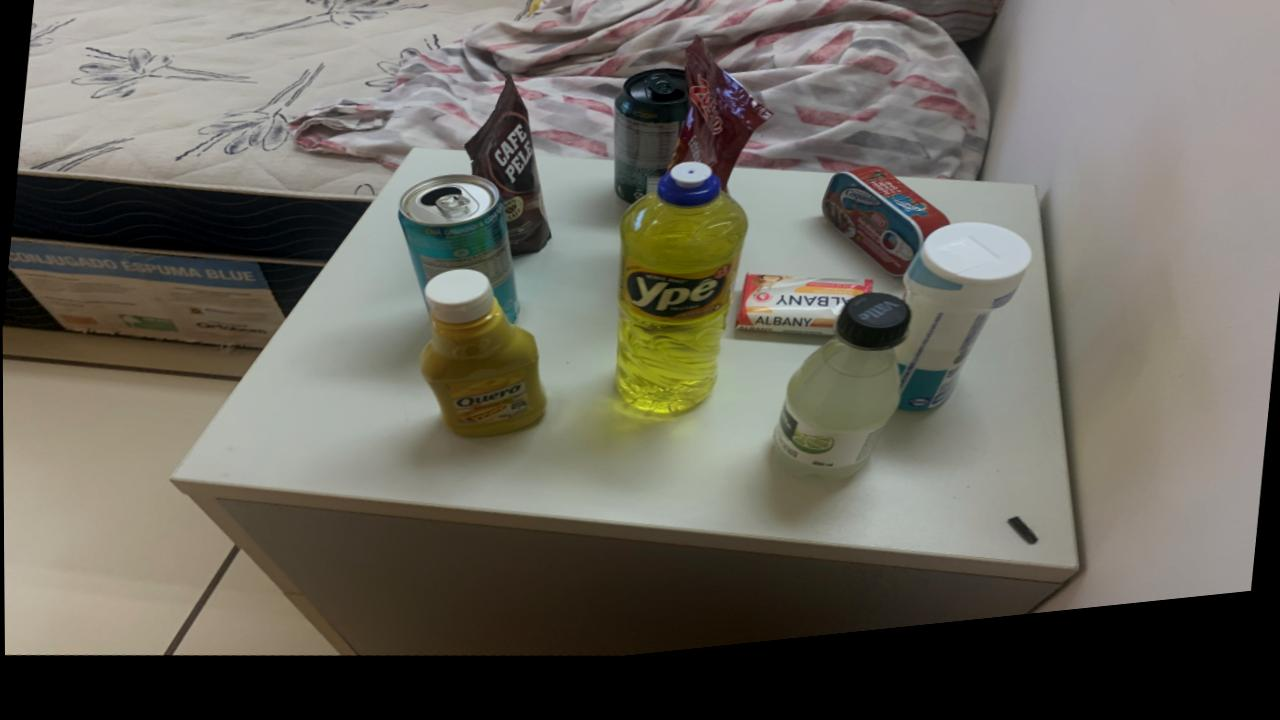Cleaner-Cleanup_Items: (895, 243, 1032, 431)
Coffee-Pantry_Items: (465, 84, 551, 265)
Detergent-Cleanup_Items: (614, 177, 747, 427)
Guarana_Can-Drinks: (613, 82, 689, 217)
Mustard-Pantry_Items: (419, 279, 545, 447)
Soap-Cleanup_Items: (736, 289, 872, 354)
Soda-Drinks: (774, 311, 911, 497)
Tea-Drinks: (398, 184, 519, 333)
Tomato_Sauce-Pantry_Items: (672, 51, 772, 202)
Tuna_Can-Pantry_Items: (822, 185, 948, 295)
